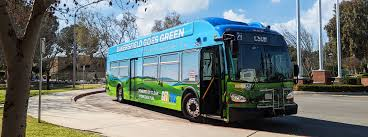bus: (105, 17, 299, 122)
